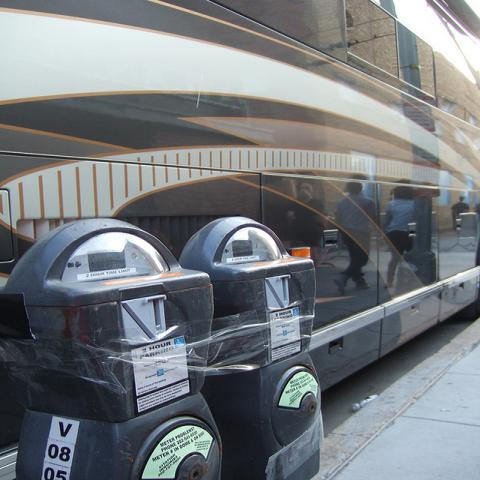bus: (3, 1, 479, 394)
